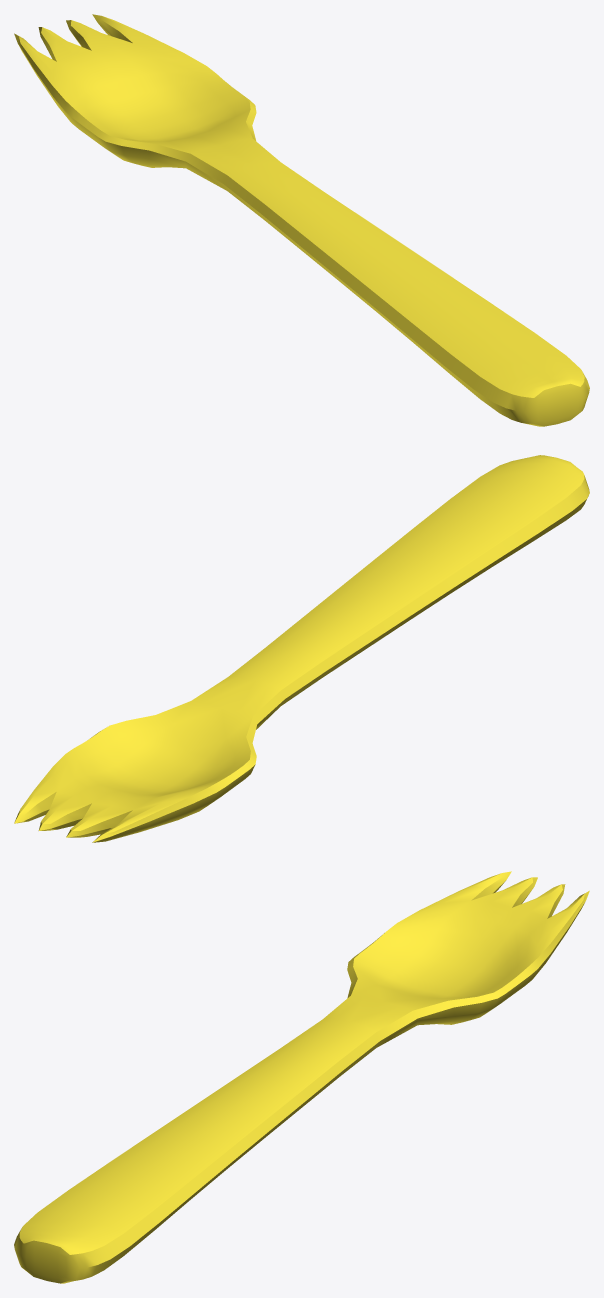
Rendered from RS_GoldenSpork.fbx.
The picture shows the model from 3 angles, top to bottom: view 1: azimuth 30°, elevation 25°; view 2: azimuth 150°, elevation 25°; view 3: azimuth 330°, elevation 25°; orthographic projection.
Parts seen in each view (by area): view 1: Cube; view 2: Cube; view 3: Cube.
Boxes of the visible parts, bbox=[...] form: Cube: bbox=[14, 14, 589, 426]; Cube: bbox=[14, 455, 589, 842]; Cube: bbox=[14, 871, 589, 1283].
Bounding box in the file's own units: 4.31 × 1.4 × 24.93.
1 material, 1 textured.
